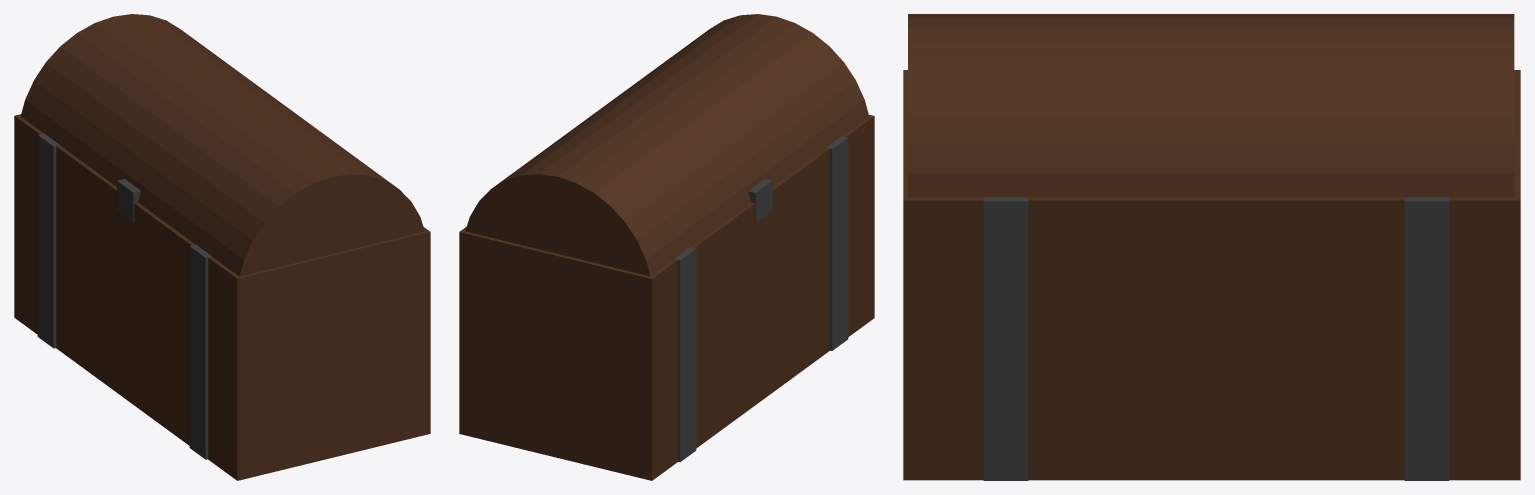
The model's file is Chest.fbx.
3 views of the same model, side by side, from view 1: azimuth 30°, elevation 25°; view 2: azimuth 150°, elevation 25°; view 3: azimuth 270°, elevation 25° (orthographic). The views are drawn at different scales.
Visible parts, largest first — view 1: Cylinder; view 2: Cylinder; view 3: Cylinder.
Boxes of the visible parts, box(x1,y1,x2,y2) form: Cylinder: box(14, 14, 430, 480); Cylinder: box(459, 14, 874, 480); Cylinder: box(903, 14, 1520, 480).
Bounding box in the file's own units: 205 × 276 × 400.
